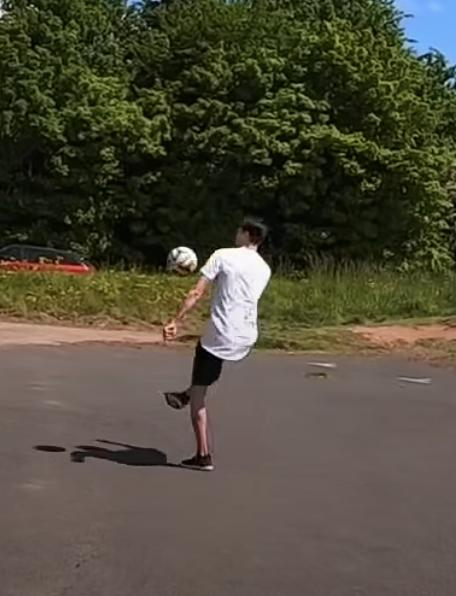ball: (168, 247, 196, 276)
foot: (179, 452, 214, 471), (164, 391, 190, 410)
person: (163, 220, 272, 470)
